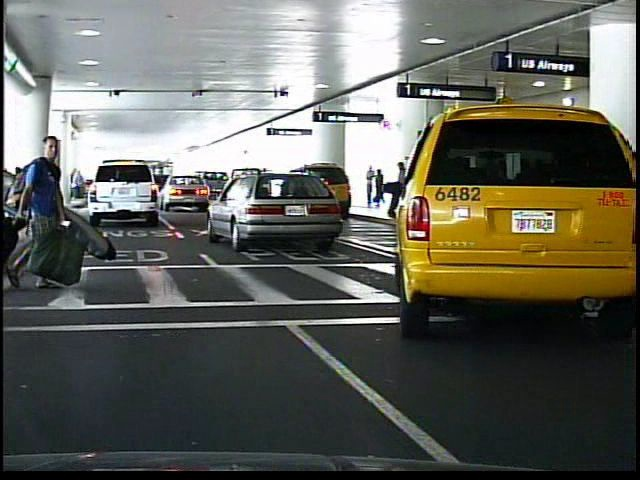person: (20, 127, 75, 299), (374, 165, 385, 208), (363, 165, 374, 206)
